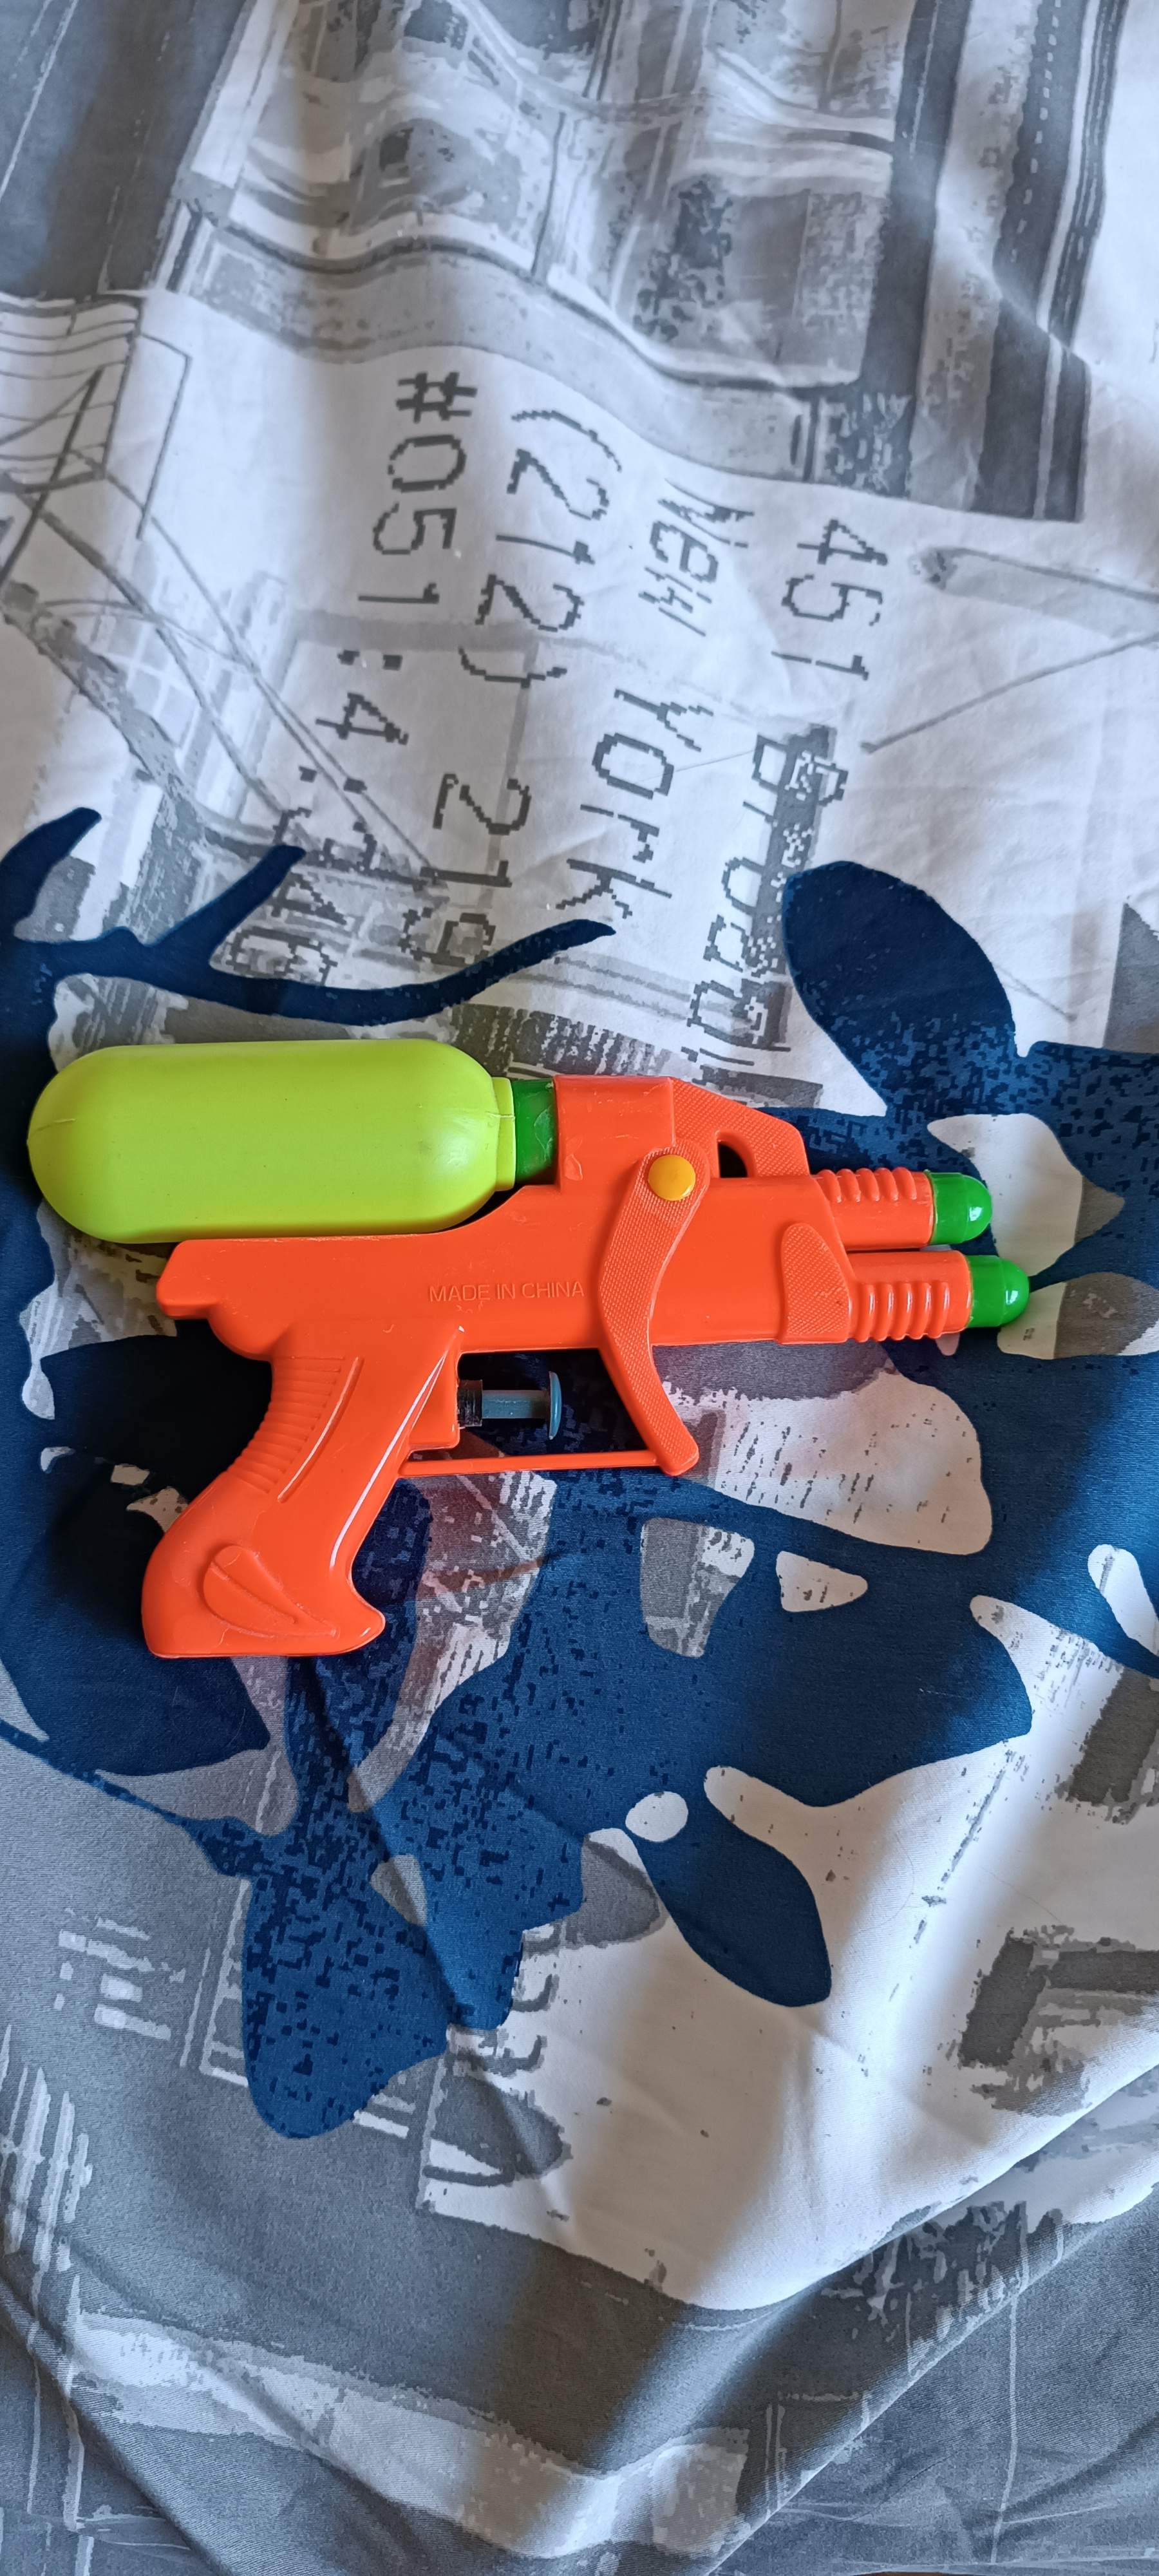Water Gun: (26, 1046, 1034, 1661)
